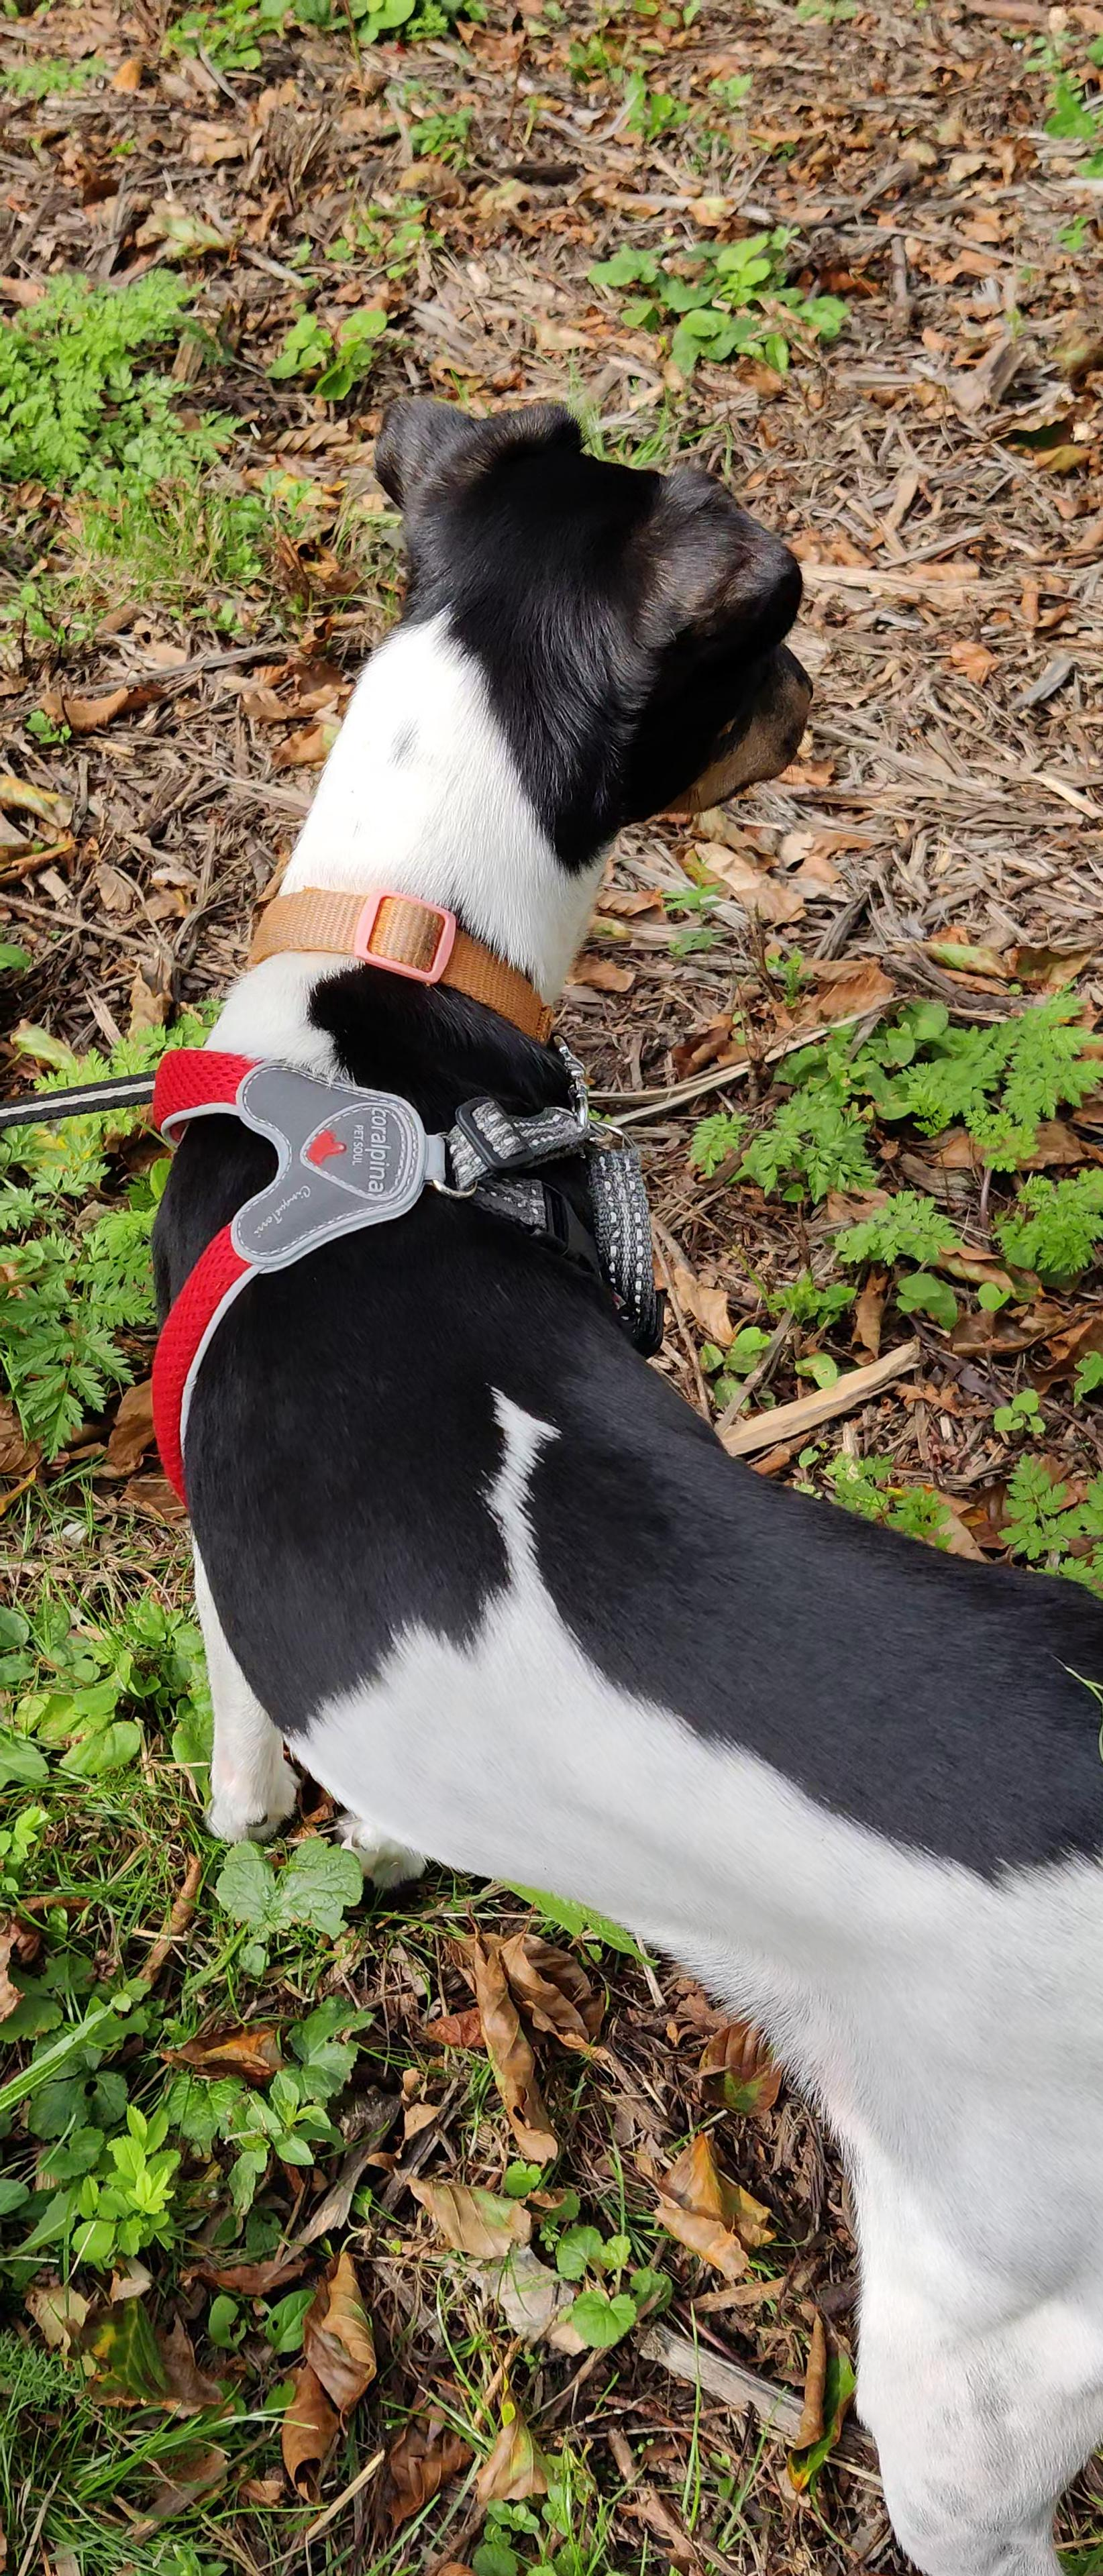Dog: (145, 376, 1103, 2576)
